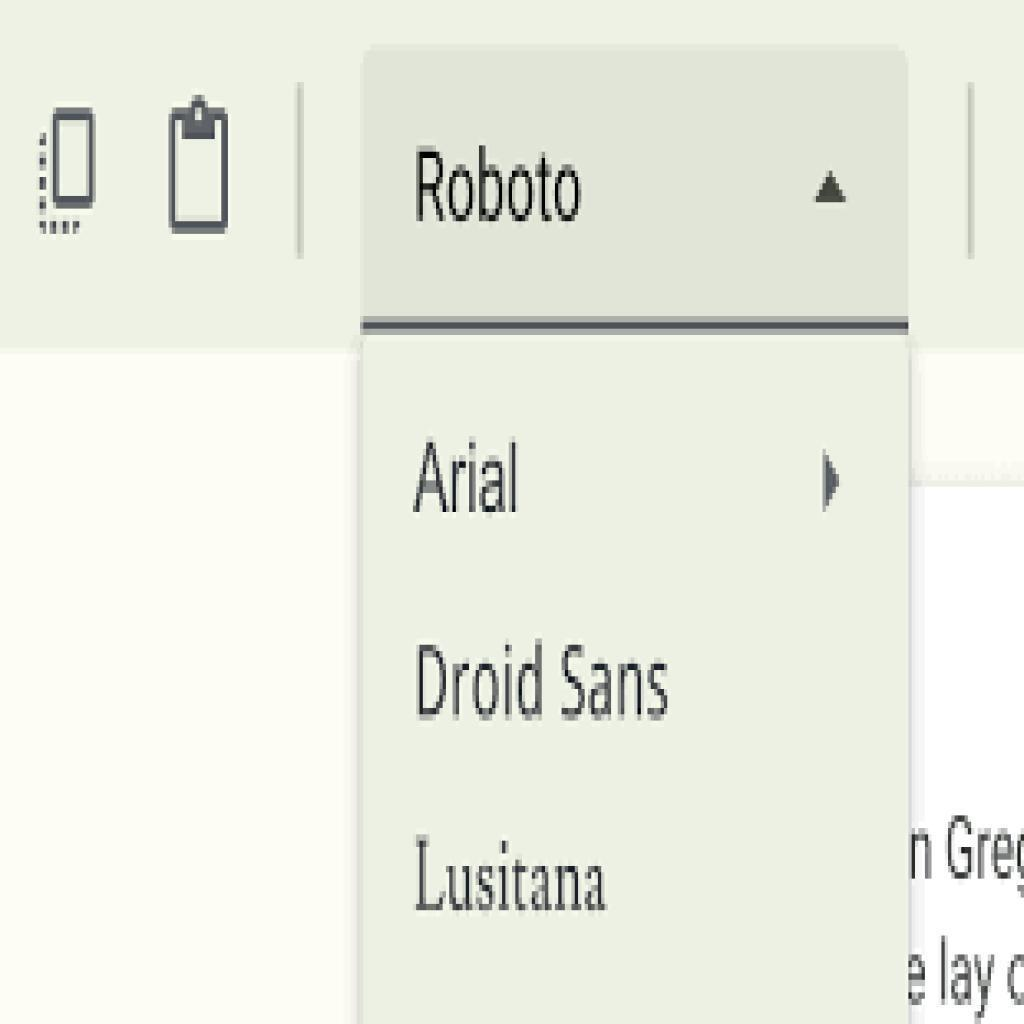dropdown: (362, 50, 913, 321)
icon: (160, 101, 244, 236), (28, 97, 104, 244)
label: (413, 624, 679, 727), (406, 822, 612, 925)
